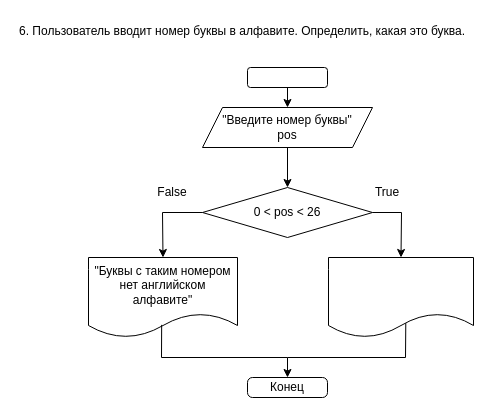
This 504x415 diagram has some shape labels left out. Here are the shapes that lost their labels. From the top down, the centre of each, then its label:
pixel 287 77: Начало
pixel 401 297: "В английском алфавите это буква " chr(pos+64)
